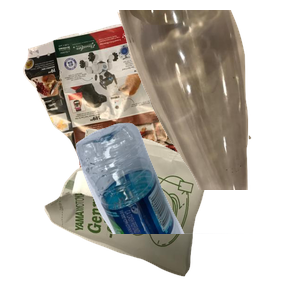glass: (115, 10, 300, 190)
paper: (20, 10, 231, 190)
plastic: (73, 120, 300, 300)
trash: (42, 126, 249, 300)
